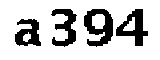3: (48, 7, 78, 48)
4: (116, 4, 149, 50)
9: (82, 8, 116, 47)
a: (13, 18, 42, 48)
